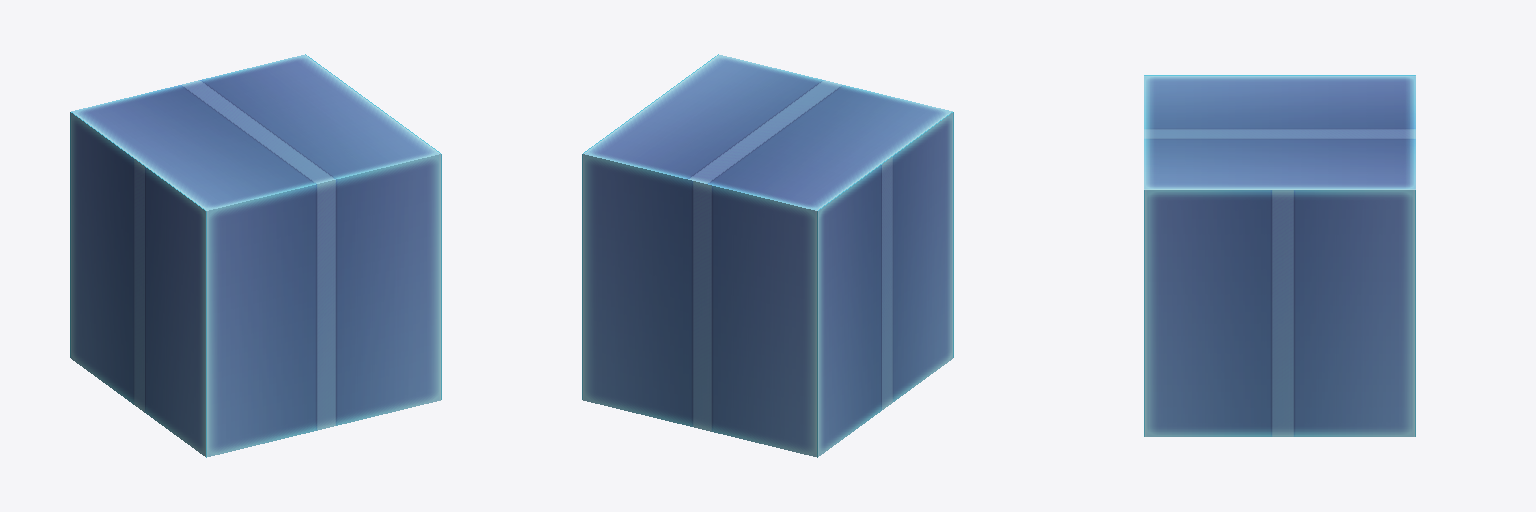
3 renders of one model, left to right at view 1: azimuth 30°, elevation 25°; view 2: azimuth 150°, elevation 25°; view 3: azimuth 270°, elevation 25°, orthographic.
Parts seen in each view (by area): view 1: cube; view 2: cube; view 3: cube.
Part boxes in pixels (x1,y1,x2,y2): cube: (70,54,441,457); cube: (582,54,953,457); cube: (1144,75,1415,436).
Bounding box in the file's own units: 1 × 1 × 1.
1 materials, 1 textured.